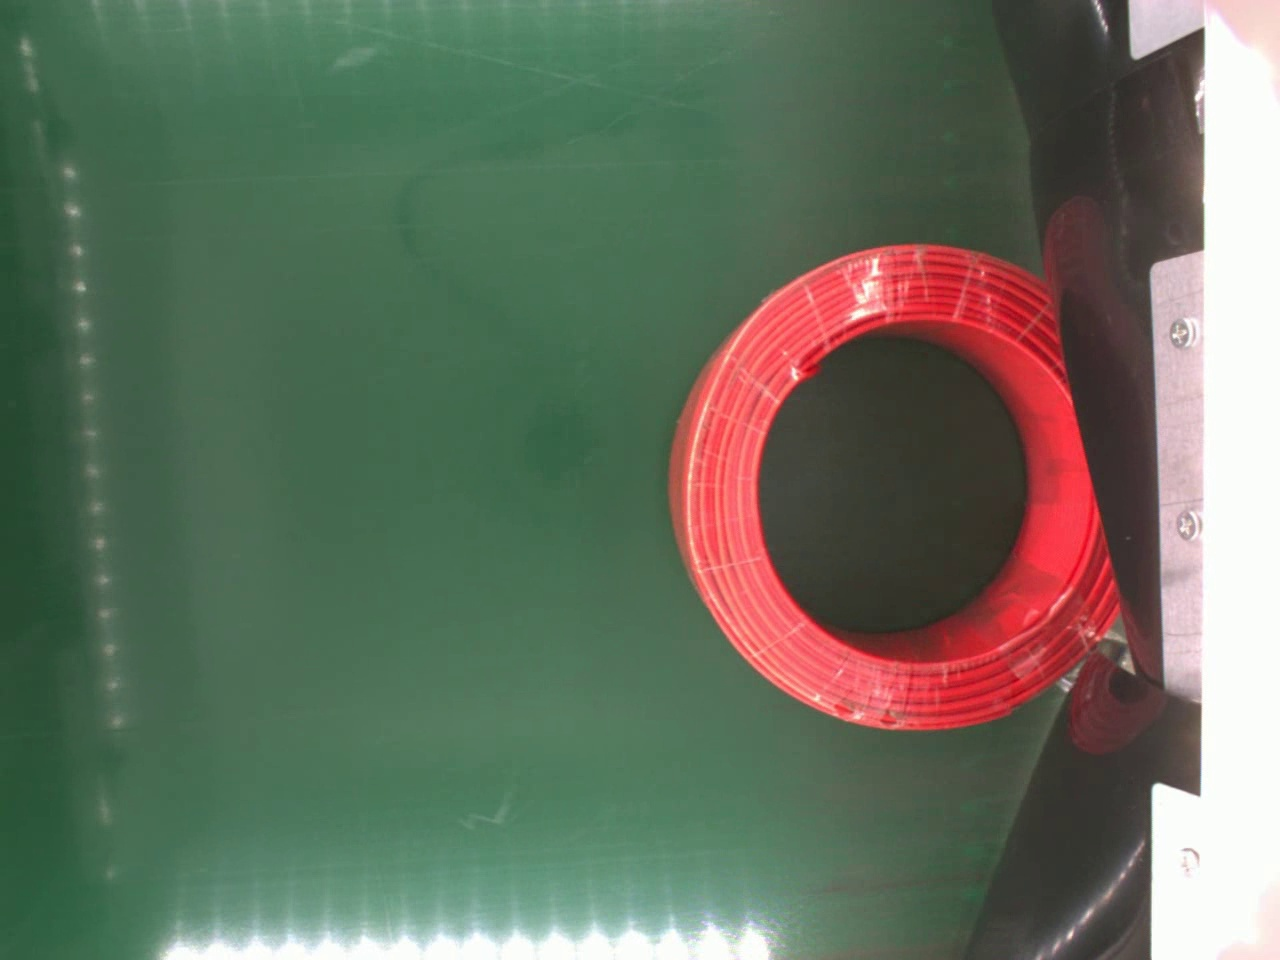red: (664, 240, 1125, 735)
